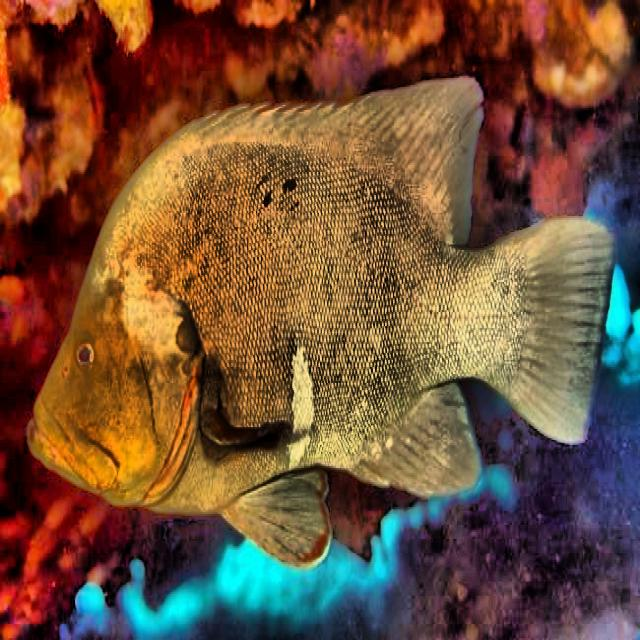fish: (31, 79, 610, 570)
